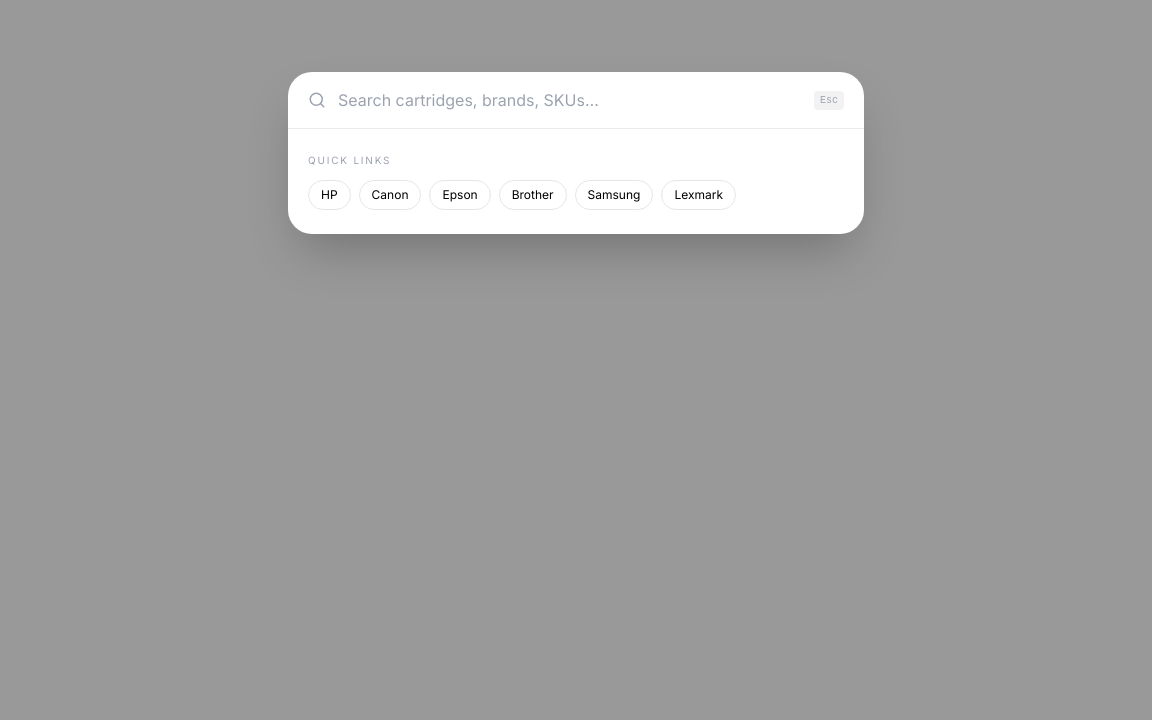
Scenario: SearchModal loading › shows placeholder rows while the first results for a query load
Type "85A" into the search field with placeholder "Search cartridges, brands, SKUs…". click: (553, 100)
box: [338,88,768,112]
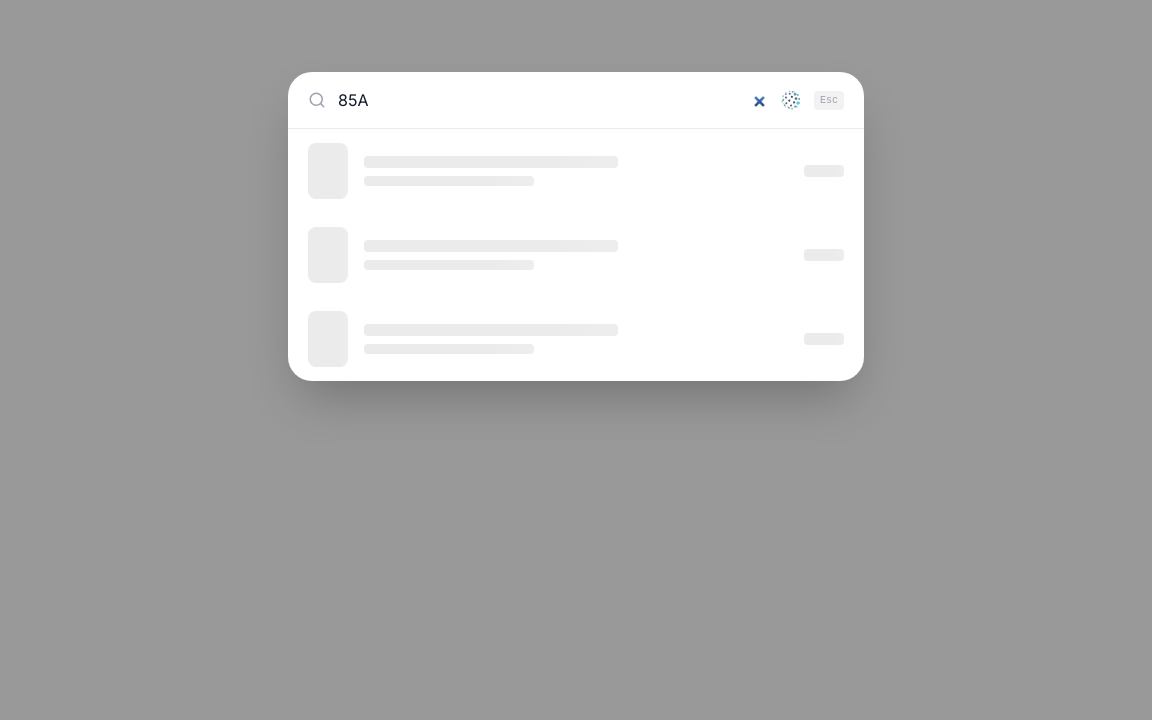
Expected: the drawing with class "dot-orb" is shown, [780,89,802,111]
Result: the list named "Searching" is shown at [288,129,864,381]
